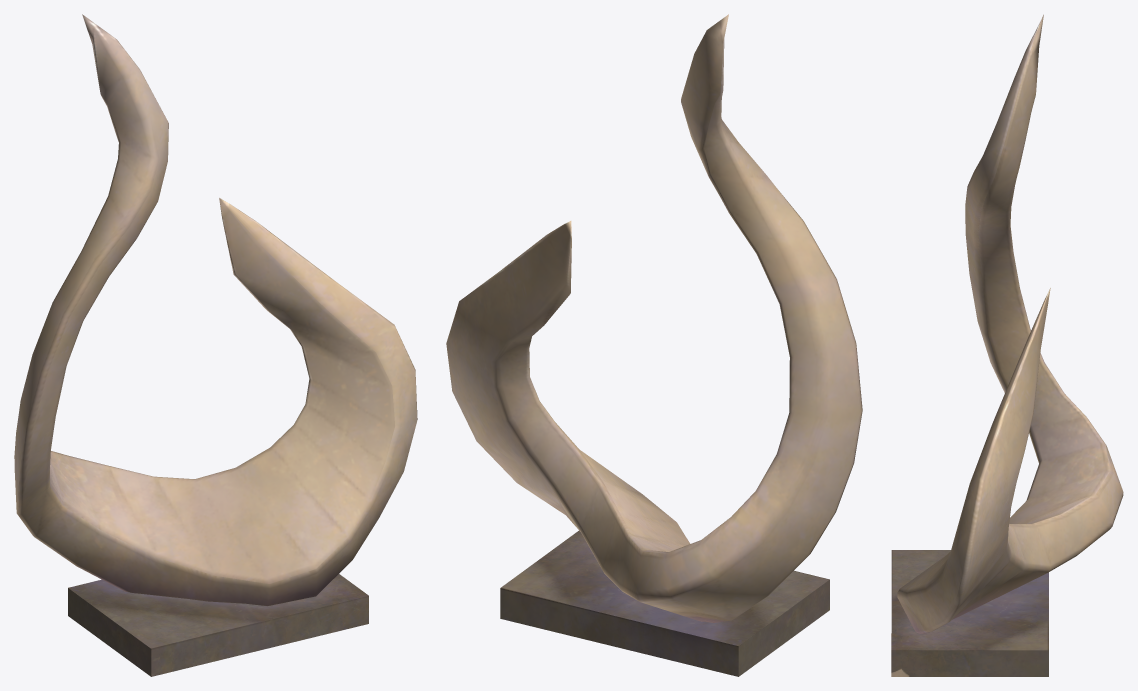
The model's file is Statue01.FBX.
3 renders of one model, left to right at view 1: azimuth 30°, elevation 25°; view 2: azimuth 150°, elevation 25°; view 3: azimuth 270°, elevation 25°, orthographic. The views are drawn at different scales.
Visible parts, largest first — view 1: Statue01; view 2: Statue01; view 3: Statue01.
Part boxes in pixels (x1,y1,x2,y2): Statue01: (14, 14, 417, 676); Statue01: (446, 14, 862, 676); Statue01: (891, 14, 1123, 676).
Size of the model in its own units: 334 by 499 by 185.
